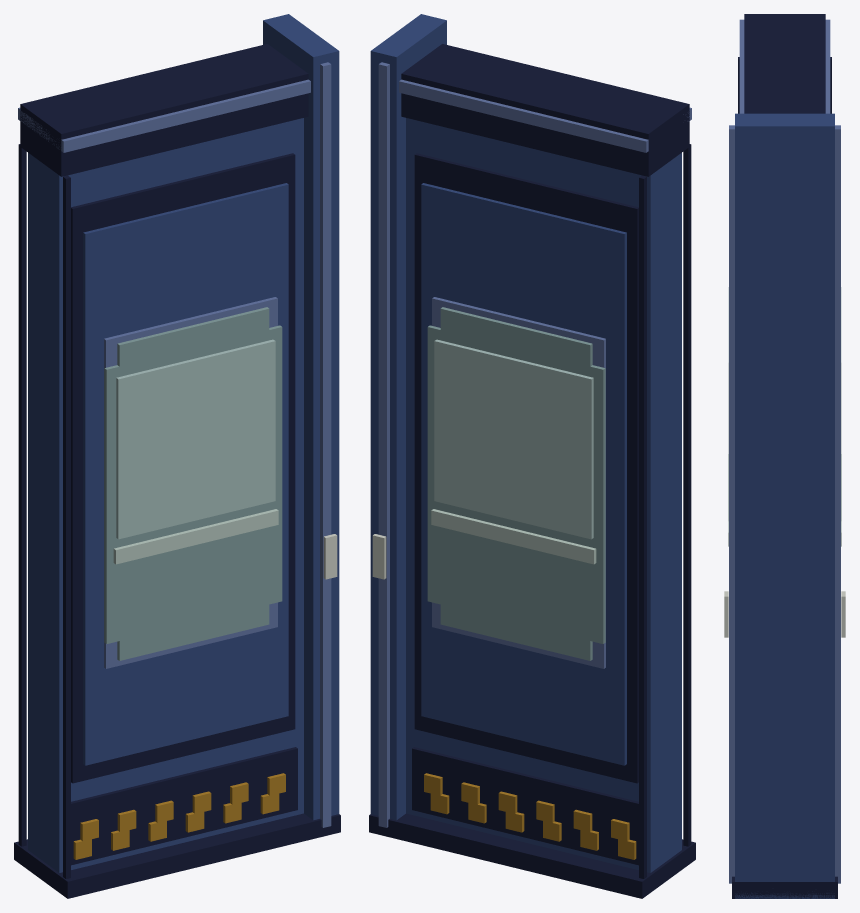
File: CMU3DPairedCommandGlass.glb
The picture shows the model from 3 angles, left to right: view 1: azimuth 30°, elevation 25°; view 2: azimuth 150°, elevation 25°; view 3: azimuth 270°, elevation 25°; orthographic projection.
Visible parts, largest first — view 1: inner face panel, single closed door leaf, pale upper reflection, chamfered window center, outer door jamb, leaf recessed face, continuous top track, meeting edge seal (×2), lower hazard band, outer jamb highlight, threshold, top track lip (+5 smaller); view 2: inner face panel back, single closed door leaf, pale upper reflection back, chamfered window center back, outer door jamb, leaf recessed face back, continuous top track, meeting edge seal (×2), lower hazard band back, outer jamb highlight, threshold, chamfered window upper shoulder back (+5 smaller); view 3: outer door jamb, outer jamb highlight (×2), continuous top track, threshold, top track lip.
Part boxes in pixels (x1=…): inner face panel: x1=83, y1=183, x2=288, y2=765; single closed door leaf: x1=28, y1=118, x2=303, y2=872; pale upper reflection: x1=116, y1=339, x2=275, y2=539; chamfered window center: x1=104, y1=325, x2=282, y2=643; outer door jamb: x1=263, y1=14, x2=339, y2=820; leaf recessed face: x1=71, y1=153, x2=295, y2=783; continuous top track: x1=20, y1=44, x2=308, y2=176; meeting edge seal (×2): x1=18, y1=144, x2=70, y2=878; lower hazard band: x1=71, y1=747, x2=297, y2=865; outer jamb highlight: x1=320, y1=62, x2=331, y2=827; threshold: x1=14, y1=813, x2=340, y2=898; top track lip: x1=18, y1=79, x2=310, y2=152; inner face panel back: x1=421, y1=183, x2=626, y2=765; single closed door leaf: x1=406, y1=118, x2=681, y2=872; pale upper reflection back: x1=434, y1=339, x2=593, y2=539; chamfered window center back: x1=427, y1=325, x2=605, y2=643; outer door jamb: x1=370, y1=14, x2=446, y2=820; leaf recessed face back: x1=414, y1=153, x2=638, y2=783; continuous top track: x1=401, y1=44, x2=689, y2=176; meeting edge seal (×2): x1=639, y1=144, x2=691, y2=878; lower hazard band back: x1=412, y1=747, x2=638, y2=865; outer jamb highlight: x1=378, y1=62, x2=389, y2=827; threshold: x1=369, y1=813, x2=695, y2=898; chamfered window upper shoulder back: x1=440, y1=307, x2=592, y2=366; outer door jamb: x1=735, y1=113, x2=834, y2=898; outer jamb highlight (×2): x1=729, y1=125, x2=840, y2=883; continuous top track: x1=744, y1=14, x2=825, y2=113; threshold: x1=732, y1=876, x2=837, y2=898; top track lip: x1=739, y1=19, x2=830, y2=113.
Bounding box in the file's own units: 1 × 2.73 × 0.388.
